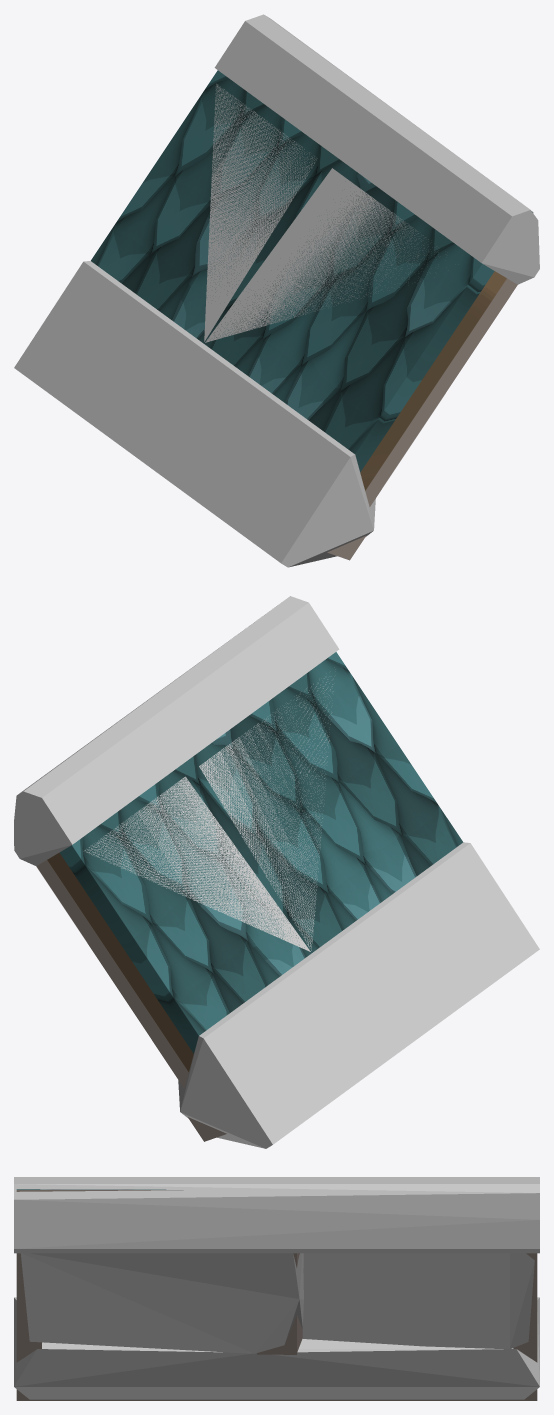
File: SM_Bld_Roof_Straight_Small_01.fbx
The picture shows the model from 3 angles, top to bottom: view 1: azimuth 30°, elevation 25°; view 2: azimuth 150°, elevation 25°; view 3: azimuth 270°, elevation 25°; orthographic projection.
Parts seen in each view (by area): view 1: SM_Bld_Roof_Straight_Small_01_ConvexHulls, SM_Bld_Roof_Straight_Small_01; view 2: SM_Bld_Roof_Straight_Small_01_ConvexHulls, SM_Bld_Roof_Straight_Small_01; view 3: SM_Bld_Roof_Straight_Small_01_ConvexHulls, SM_Bld_Roof_Straight_Small_01.
Boxes of the visible parts, bbox=[...] form: SM_Bld_Roof_Straight_Small_01_ConvexHulls: bbox=[14, 14, 539, 567]; SM_Bld_Roof_Straight_Small_01: bbox=[91, 70, 533, 560]; SM_Bld_Roof_Straight_Small_01_ConvexHulls: bbox=[14, 596, 539, 1148]; SM_Bld_Roof_Straight_Small_01: bbox=[36, 652, 463, 1141]; SM_Bld_Roof_Straight_Small_01_ConvexHulls: bbox=[14, 1177, 539, 1399]; SM_Bld_Roof_Straight_Small_01: bbox=[16, 1189, 537, 1400].
Bounding box in the file's own units: 141 × 252 × 160.
Materials: 4 (3 with a texture image).
